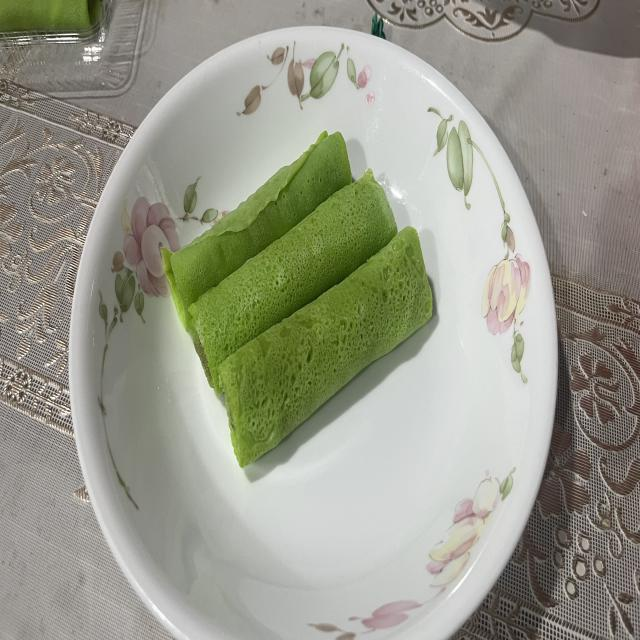Kuih-Ketayap: (219, 227, 432, 467), (188, 169, 398, 393), (164, 131, 351, 329)
